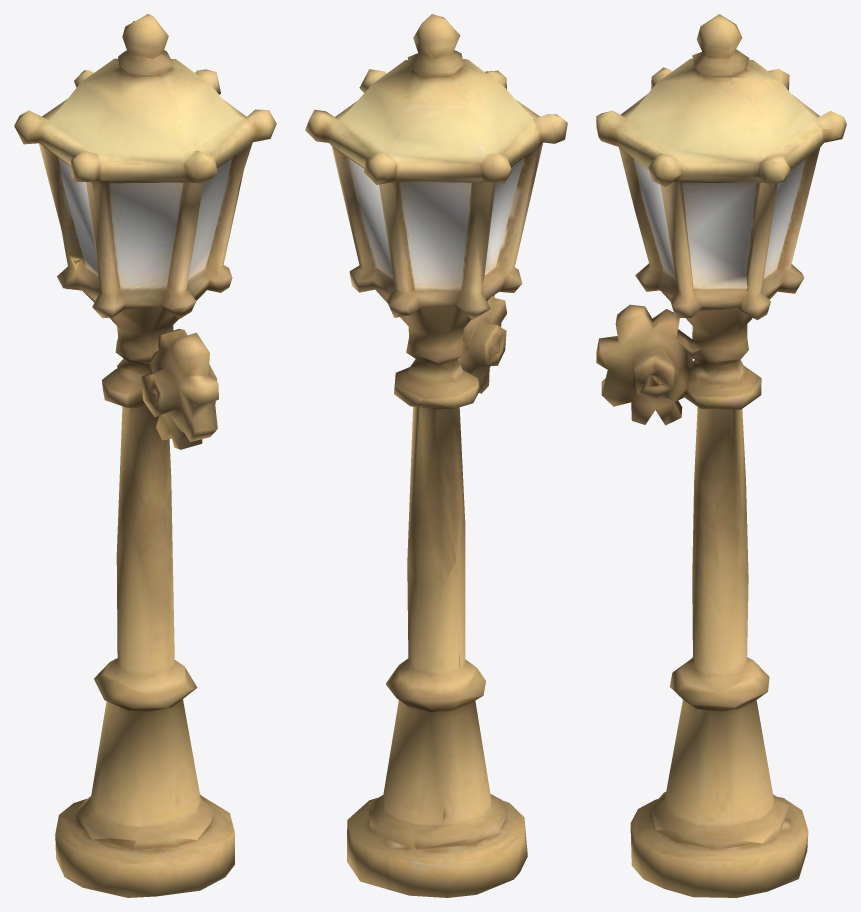
Rendered from lg-brass-lamp-post.glb.
3 views of the same model, side by side, from view 1: azimuth 30°, elevation 25°; view 2: azimuth 150°, elevation 25°; view 3: azimuth 270°, elevation 25° (orthographic).
Visible parts, largest first — view 1: geometry_0; view 2: geometry_0; view 3: geometry_0.
Boxes of the visible parts, left/top/right/bottom form: geometry_0: left=14, top=14, right=276, bottom=897; geometry_0: left=305, top=14, right=567, bottom=897; geometry_0: left=596, top=14, right=846, bottom=897.
Size of the model in its own units: 0.252 by 1 by 0.2691.
1 material, 1 textured.
